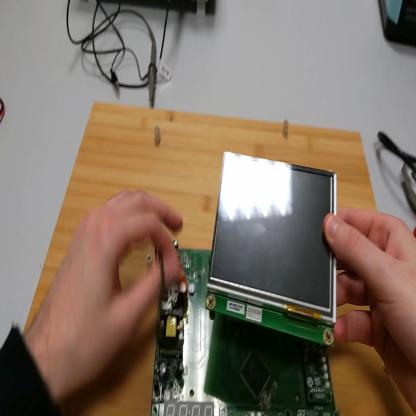hand: (38, 188, 188, 392), (324, 205, 416, 389)
low voltage board: (151, 244, 336, 415)
oscilloscope: (198, 4, 213, 17)
oscilloscope probe tip: (148, 30, 156, 108)
pliers: (402, 160, 416, 236)
welder station: (376, 2, 416, 49)
working area: (19, 102, 416, 415)
